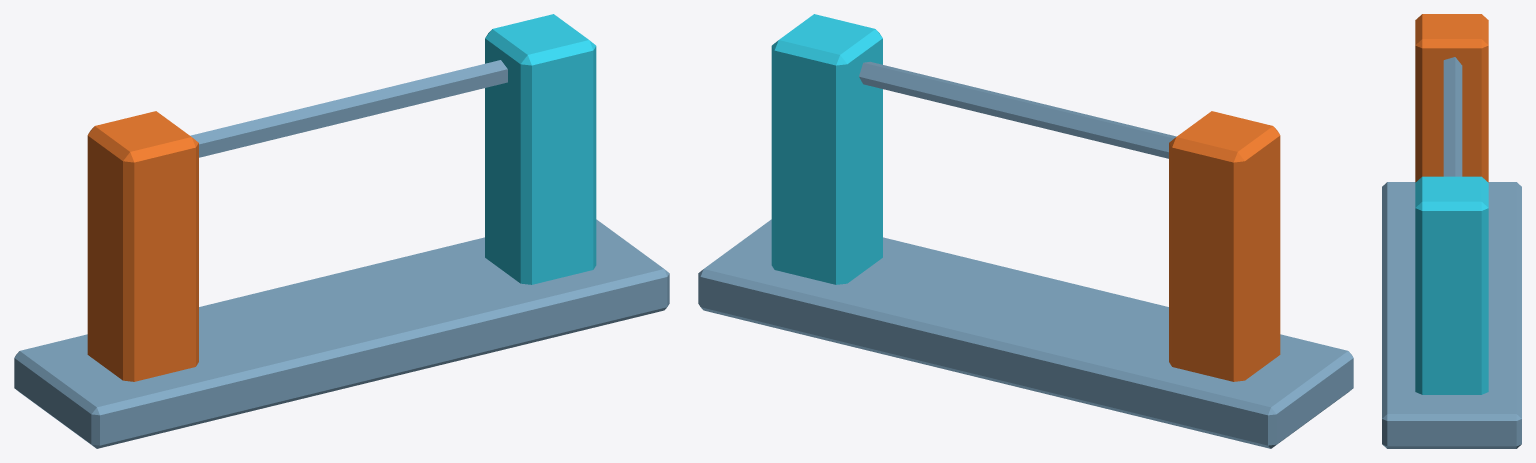
The model's file is toy_bridge.glb.
3 renders of one model, left to right at view 1: azimuth 30°, elevation 25°; view 2: azimuth 150°, elevation 25°; view 3: azimuth 270°, elevation 25°, orthographic. The views are drawn at different scales.
Parts seen in each view (by area): view 1: toy_bridge; view 2: toy_bridge; view 3: toy_bridge.
Part boxes in pixels (x1=…): toy_bridge: x1=14, y1=14, x2=669, y2=448; toy_bridge: x1=698, y1=14, x2=1353, y2=448; toy_bridge: x1=1382, y1=14, x2=1521, y2=448.
Size of the model in its own units: 3.2 by 1.42 by 0.8.
